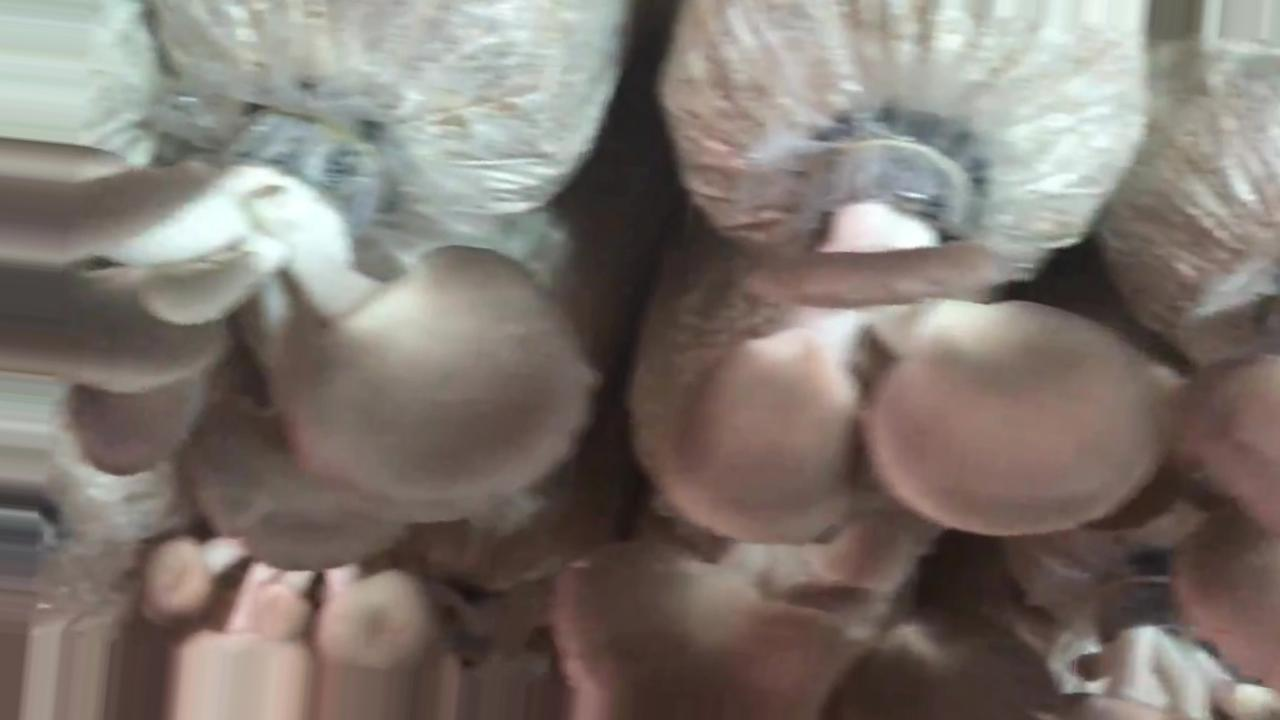nam: (1, 91, 586, 561), (671, 118, 1171, 545), (563, 543, 842, 720), (148, 541, 420, 720), (1174, 513, 1278, 687)
